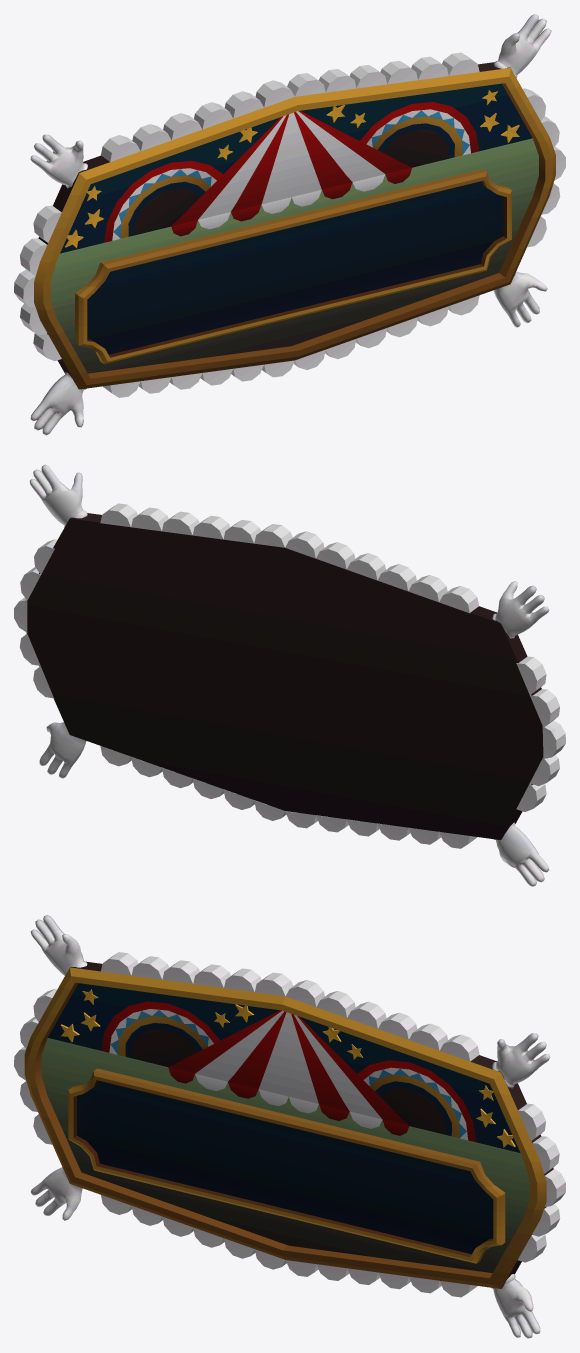
Rendered from SM_Circus_Sign (2).fbx.
3 renders of one model, top to bottom at view 1: azimuth 30°, elevation 25°; view 2: azimuth 150°, elevation 25°; view 3: azimuth 330°, elevation 25°, orthographic.
Visible parts, largest first — view 1: Circus_Sign_Export; view 2: Circus_Sign_Export; view 3: Circus_Sign_Export.
Boxes of the visible parts, <box> form: Circus_Sign_Export: <box>14,14,565,435</box>; Circus_Sign_Export: <box>14,464,565,886</box>; Circus_Sign_Export: <box>14,915,565,1338</box>.
Size of the model in its own units: 496 by 270 by 22.4.
